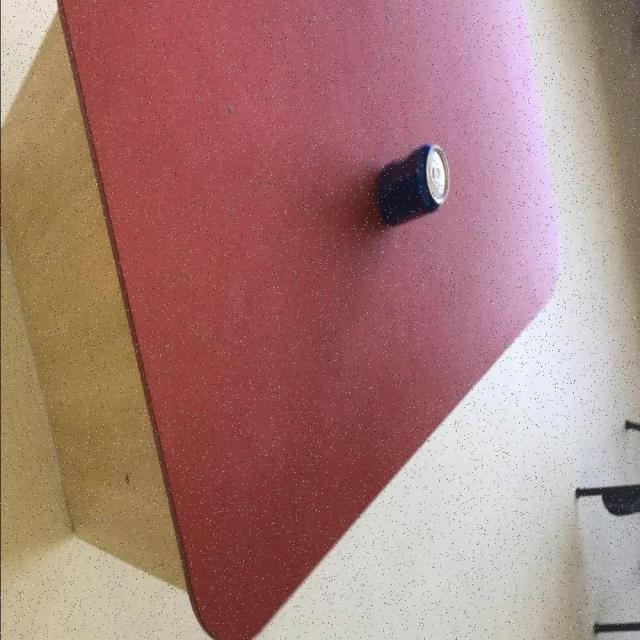Tonic: (377, 144, 451, 229)
